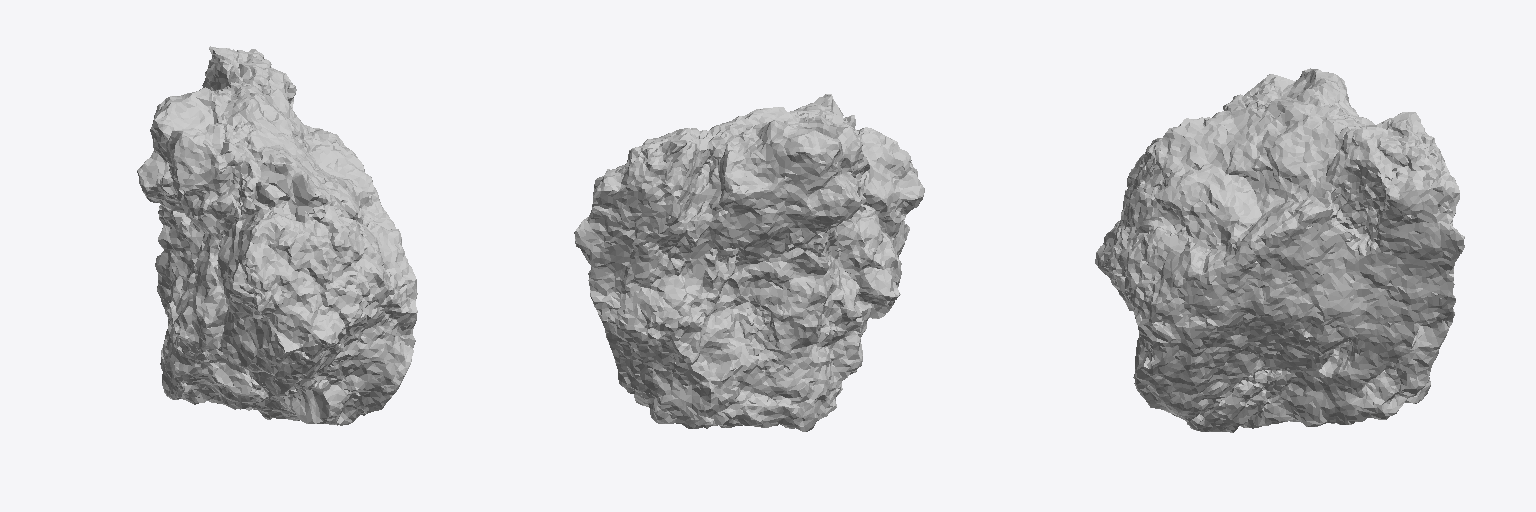
File: rock.obj
3 renders of one model, left to right at view 1: azimuth 30°, elevation 25°; view 2: azimuth 150°, elevation 25°; view 3: azimuth 270°, elevation 25°, orthographic.
Parts seen in each view (by area): view 1: sutr28_Untitled; view 2: sutr28_Untitled; view 3: sutr28_Untitled.
Part boxes in pixels (bbox=[...]): sutr28_Untitled: bbox=[137, 46, 417, 425]; sutr28_Untitled: bbox=[574, 94, 924, 431]; sutr28_Untitled: bbox=[1095, 68, 1464, 432].
Bounding box in the file's own units: 14.46 × 20.85 × 22.